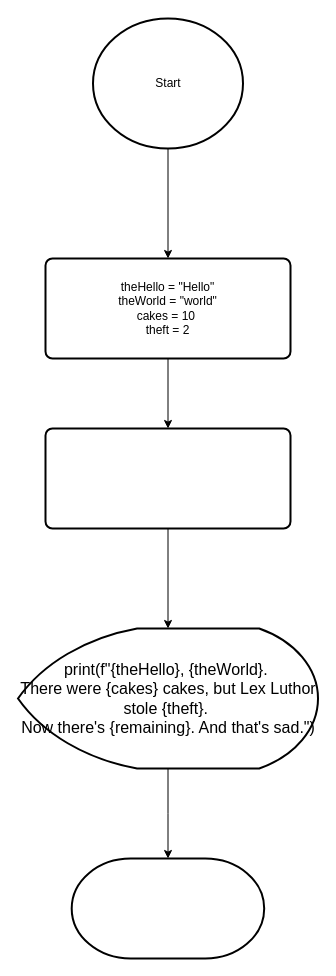
The diagram is 336 pixels wide and 976 high, and some of its shapes have lost their labels. The box of each missing label's shape, as (x1, y1, x2, y2) in pixels:
End: (70, 857, 265, 959)
remaining = cakes - theft: (44, 427, 291, 529)
